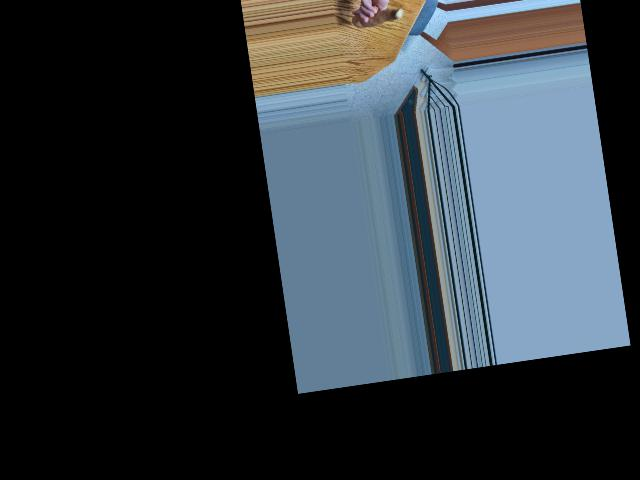sweet_potato: (352, 2, 405, 29)
